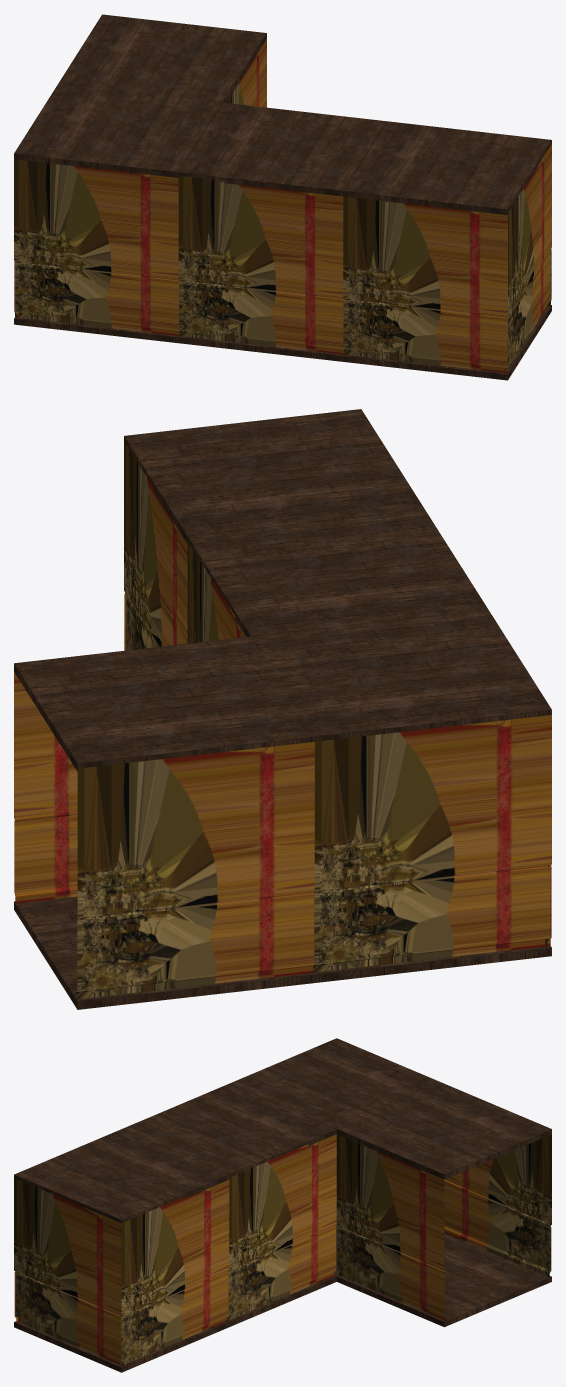
File: SpawnSock.fbx
The picture shows the model from 3 angles, top to bottom: view 1: azimuth 30°, elevation 25°; view 2: azimuth 150°, elevation 25°; view 3: azimuth 270°, elevation 25°; orthographic projection. The views are drawn at different scales.
Parts seen in each view (by area): view 1: SpawnSock; view 2: SpawnSock; view 3: SpawnSock.
Part boxes in pixels (<box>): SpawnSock: <box>14,14,551,380</box>; SpawnSock: <box>14,409,551,1009</box>; SpawnSock: <box>14,1038,551,1372</box>.
Size of the model in its own units: 11.31 by 4.43 by 14.14.
